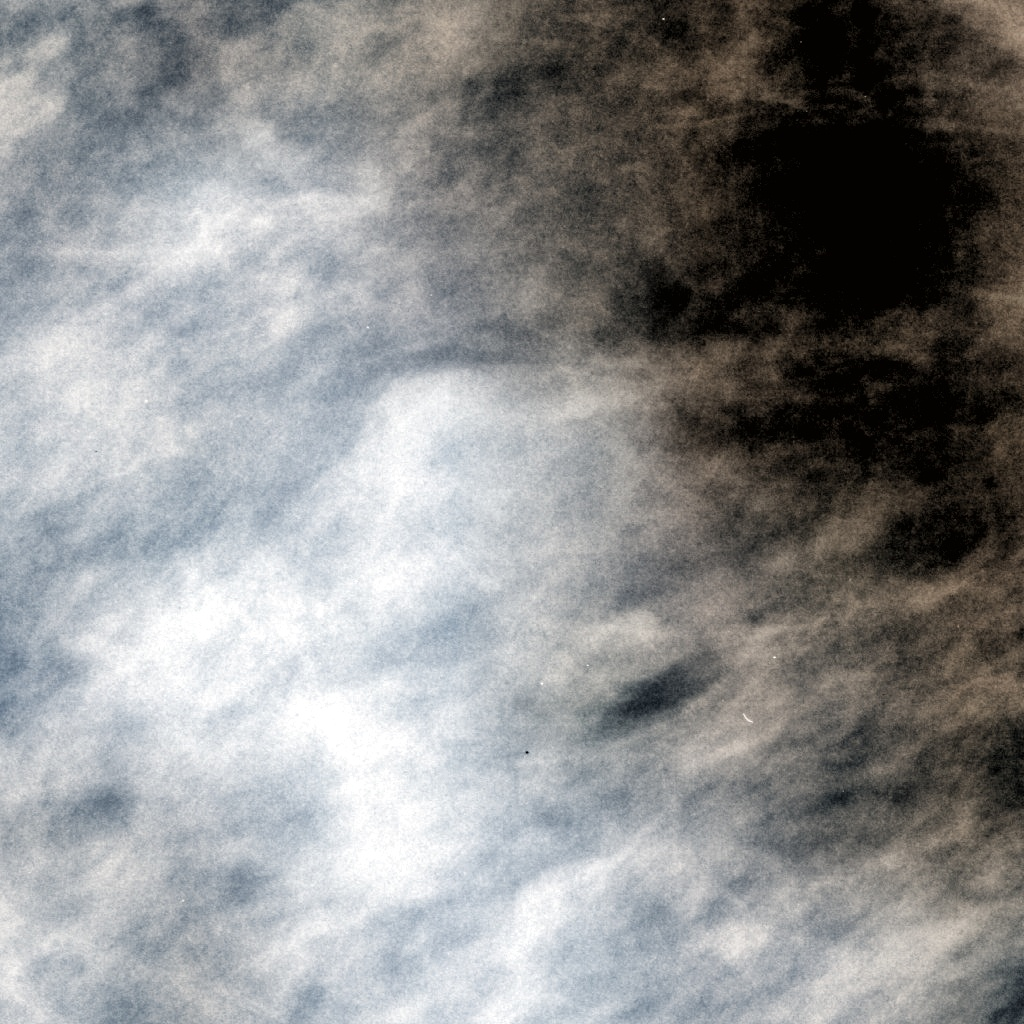tumor: (315, 321, 709, 703)
